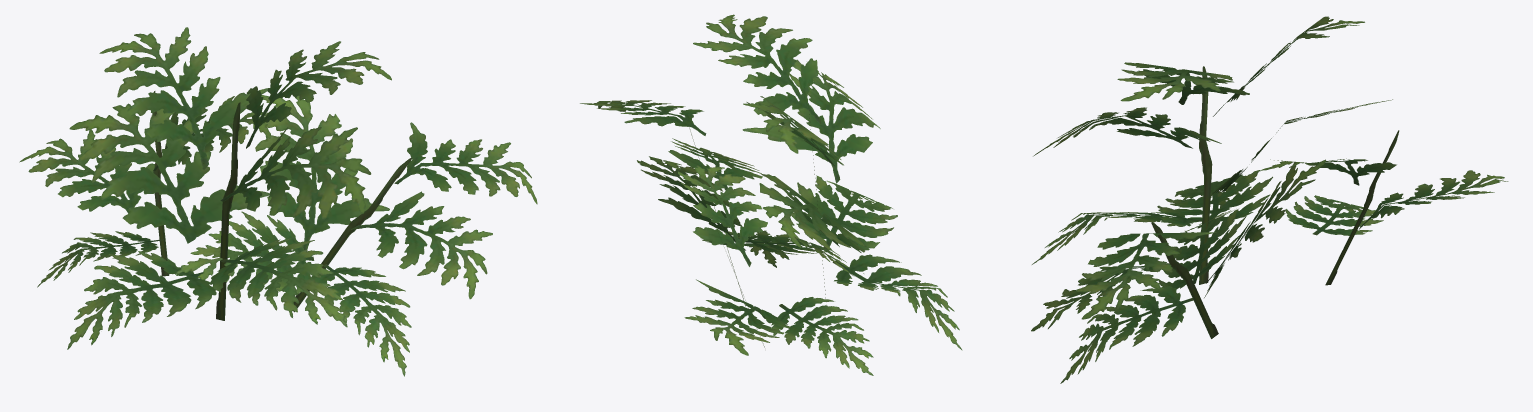
The model's file is zhiwu_10.FBX.
3 renders of one model, left to right at view 1: azimuth 30°, elevation 25°; view 2: azimuth 150°, elevation 25°; view 3: azimuth 270°, elevation 25°, orthographic. The views are drawn at different scales.
Parts seen in each view (by area): view 1: zhiwu_10; view 2: zhiwu_10; view 3: zhiwu_10.
Part boxes in pixels (<box>): zhiwu_10: <box>19,27,537,376</box>; zhiwu_10: <box>580,14,962,375</box>; zhiwu_10: <box>1031,16,1508,383</box>.
Size of the model in its own units: 122 by 81.1 by 116.
